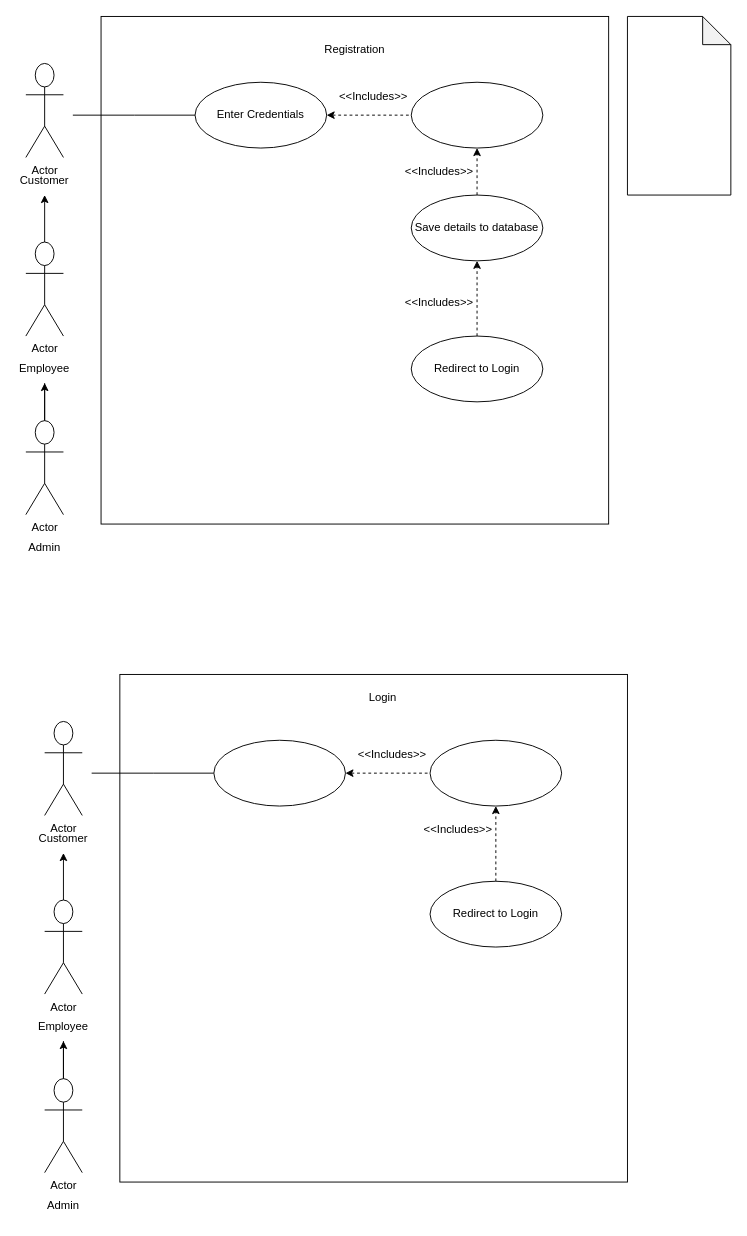
Some shapes in this 747 by 1236 pixel diagram are drawn without their labels. Each missing label, with the centre of its shape:
"Enter username and password" goes at (279,772).
"User Credentials: Email Username DOB Password" goes at (679,105).
"Validate Credentials" goes at (476,114).
"Validate username, password and user type" goes at (495,772).
